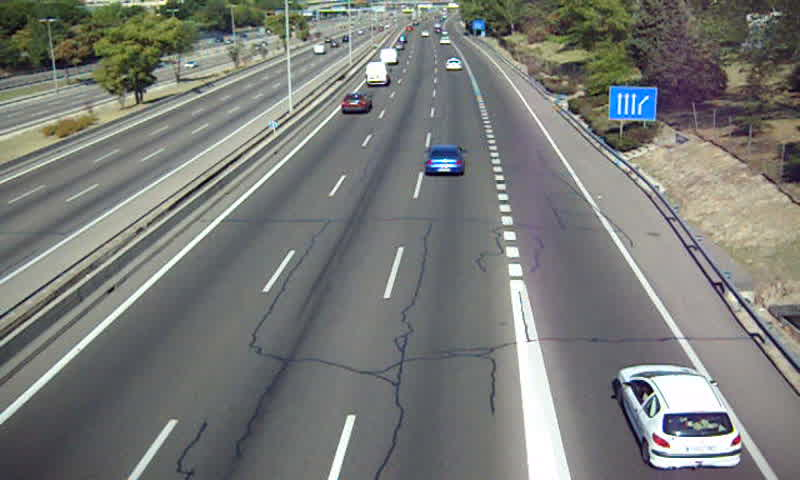car: (615, 363, 742, 469), (425, 144, 467, 175), (340, 92, 372, 114), (446, 58, 464, 71)
van: (364, 61, 392, 86), (381, 46, 397, 66)
